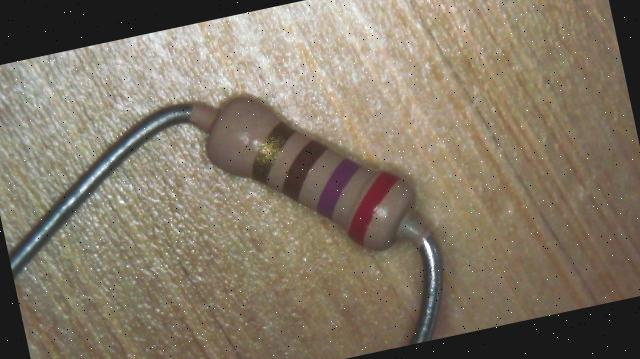brown: (274, 138, 336, 200)
gold: (242, 119, 302, 179)
red: (338, 168, 410, 246)
resistor: (180, 66, 436, 277)
violet: (308, 156, 370, 220)
